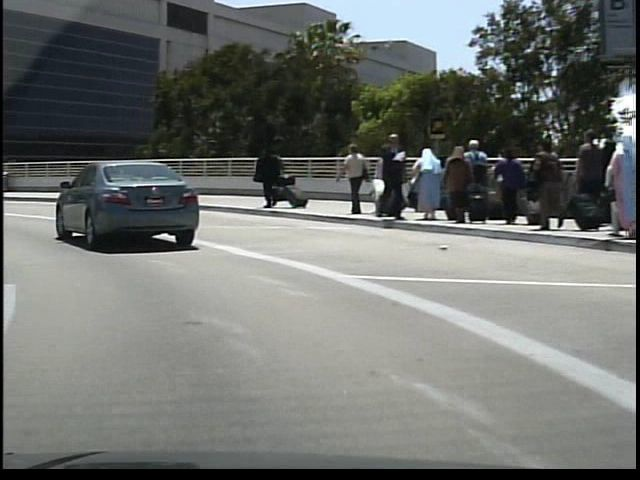person: (371, 130, 406, 224), (333, 139, 367, 218), (249, 144, 281, 210), (268, 152, 288, 203)
